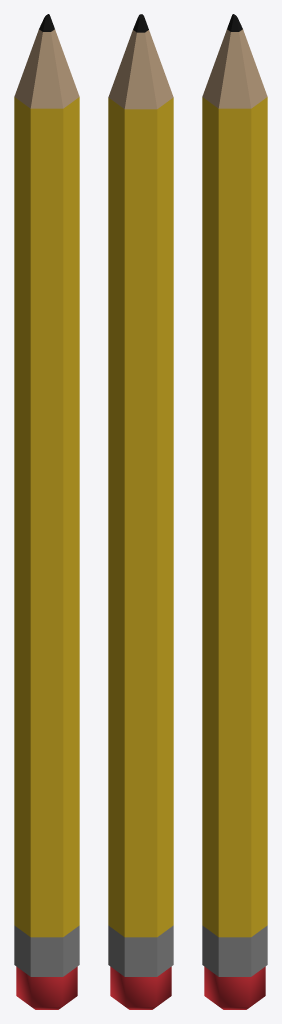
Rendered from Pencil.fbx.
The picture shows the model from 3 angles, left to right: view 1: azimuth 90°, elevation 25°; view 2: azimuth 150°, elevation 25°; view 3: azimuth 270°, elevation 25°; orthographic projection.
Parts seen in each view (by area): view 1: potlood; view 2: potlood; view 3: potlood.
Part boxes in pixels (box(x1,y1,x2,y2)): potlood: box(14, 14, 79, 1009); potlood: box(108, 14, 173, 1009); potlood: box(202, 14, 267, 1009).
Bounding box in the file's own units: 0.866 × 16.68 × 1.
